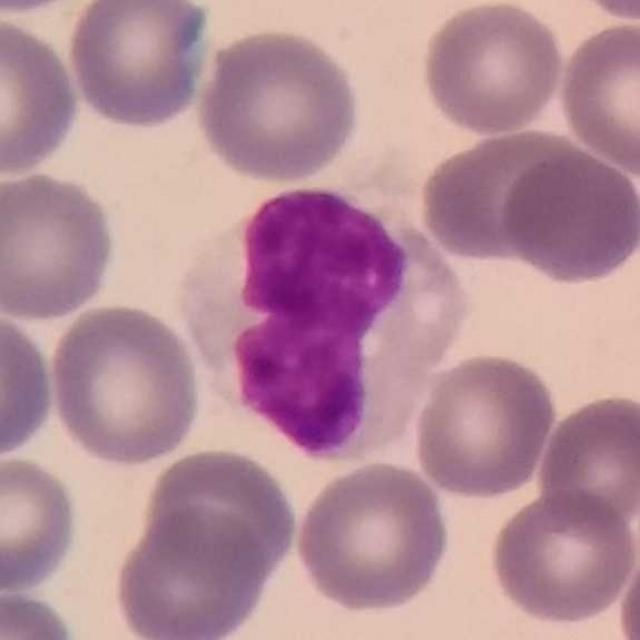mono: (170, 164, 478, 459)
